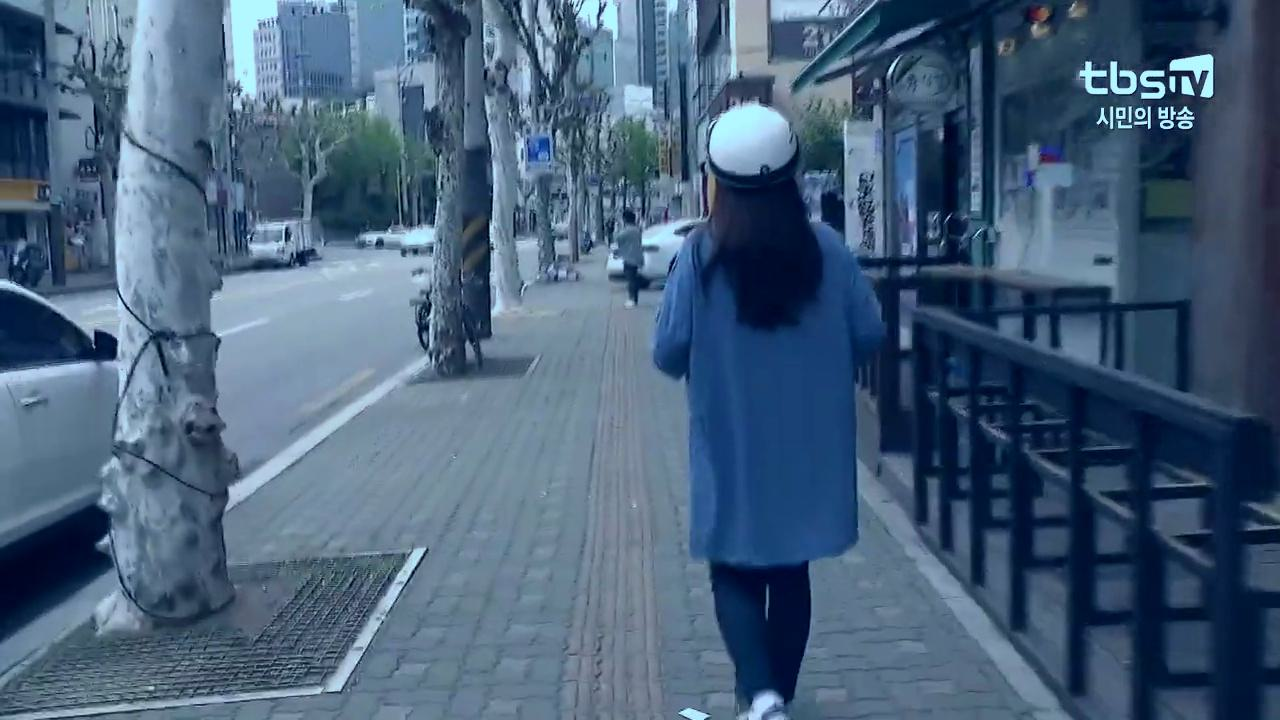helmet: (647, 100, 891, 720)
